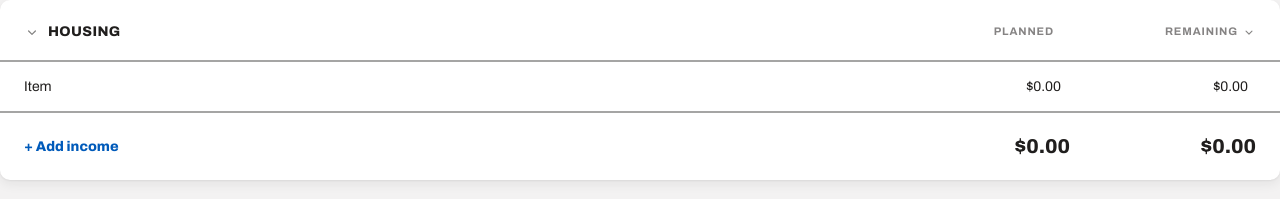
Test: BudgetGroupCard income inference › offers "Received" as the metric alternative when every item in the group is income
Click the button "Remaining" at (1171, 32), box 1086,24 -> 1256,40
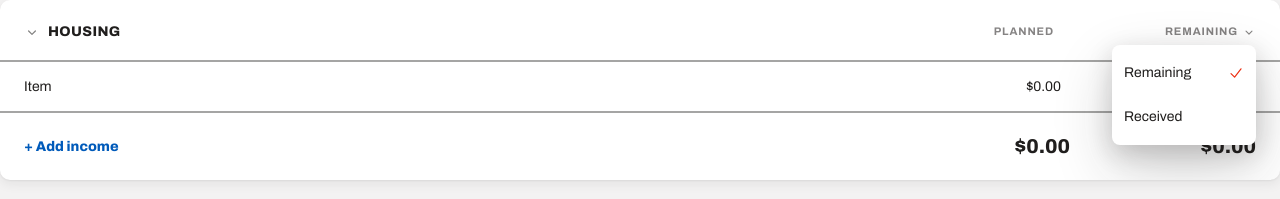
Now the text "Received" is shown, box 1124,106 -> 1182,126
